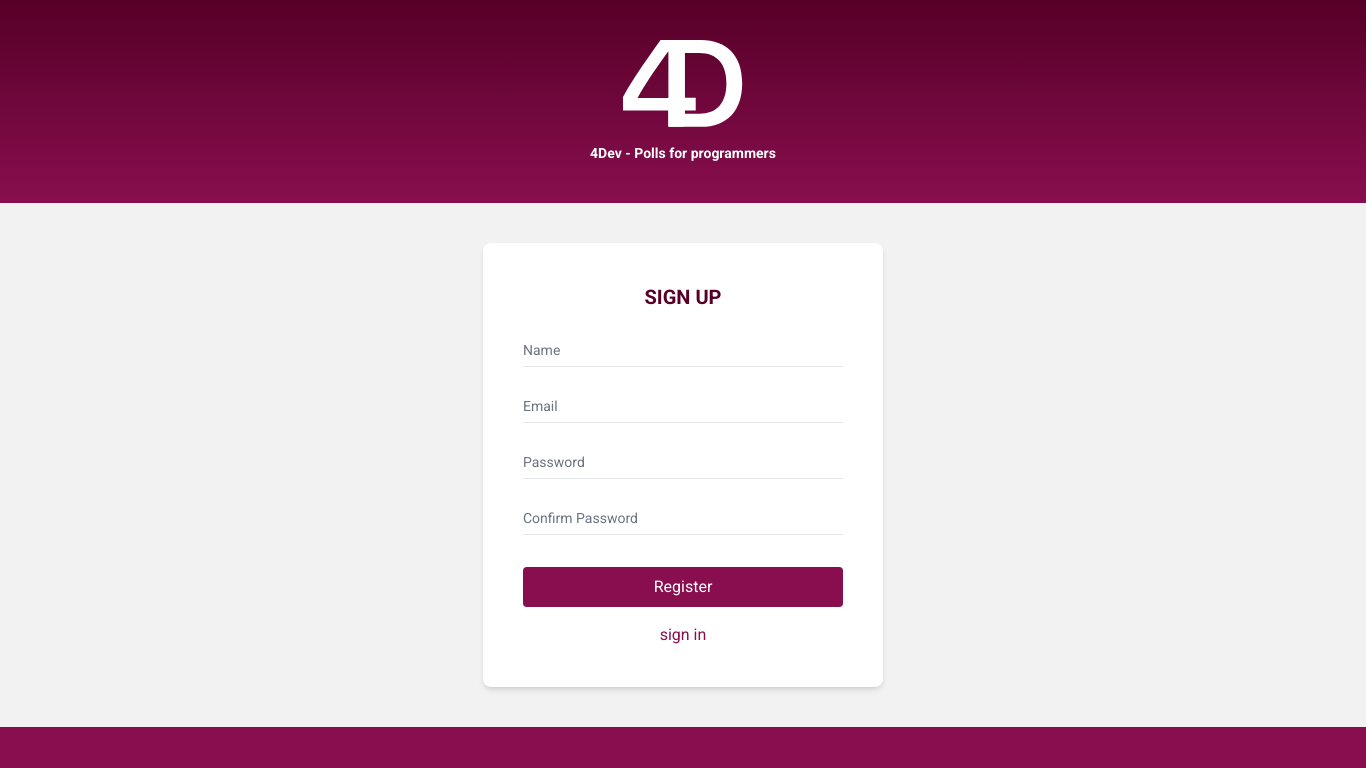
Page: Sign-up › should show confirm password error if validation fails
Step 1. Type "sub" into the password field with test id "pw-confirmation-input" → (683, 515), box [523,495,843,535]
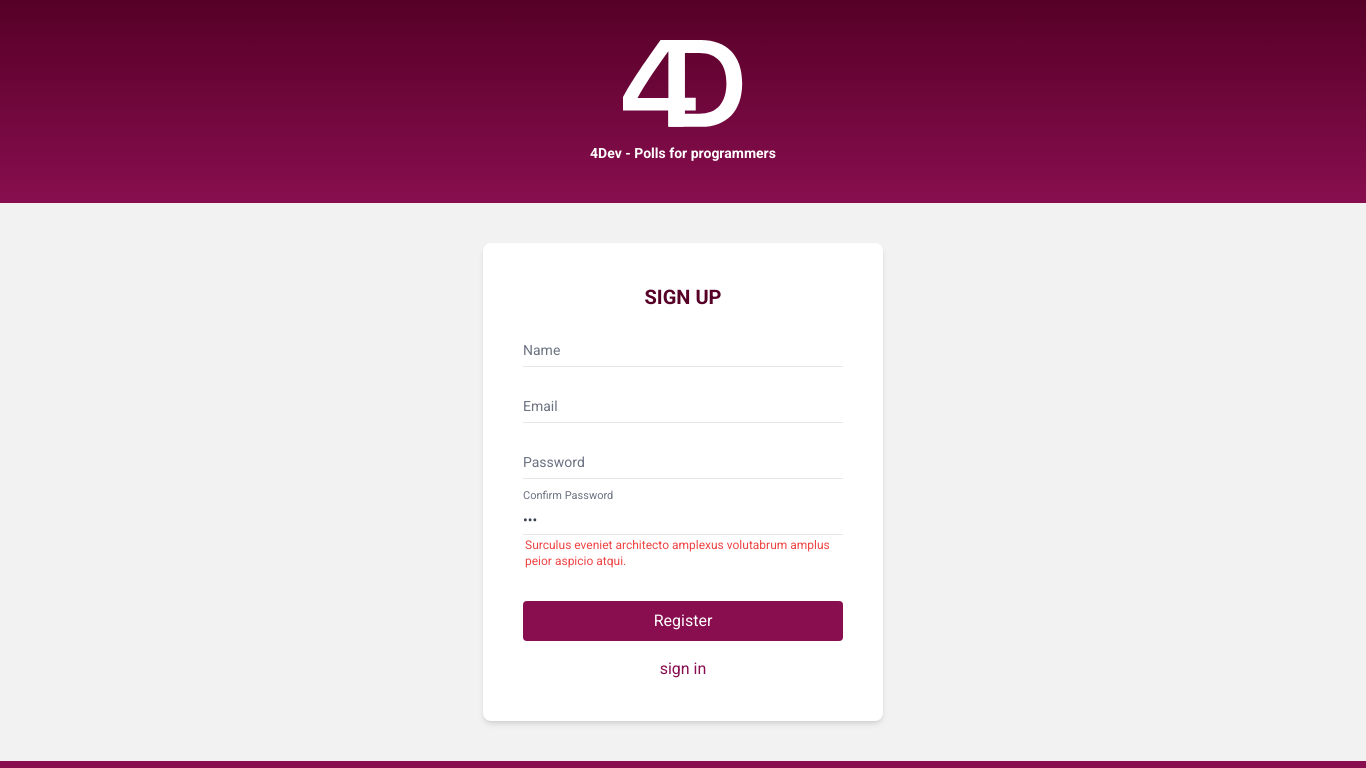
expect the message with test id "pw-confirmation-error" is shown: met, box [525,537,843,569]
